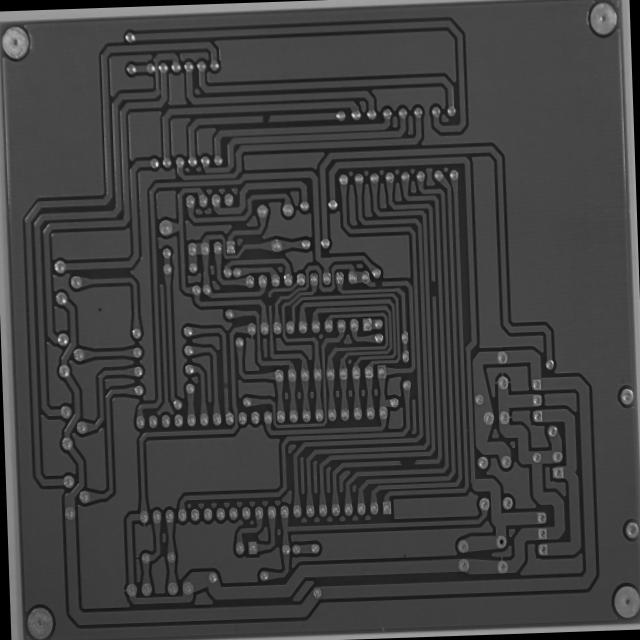open_circuit: (428, 278, 438, 301), (258, 111, 272, 127), (398, 457, 418, 468), (372, 278, 385, 289), (266, 294, 273, 308)
